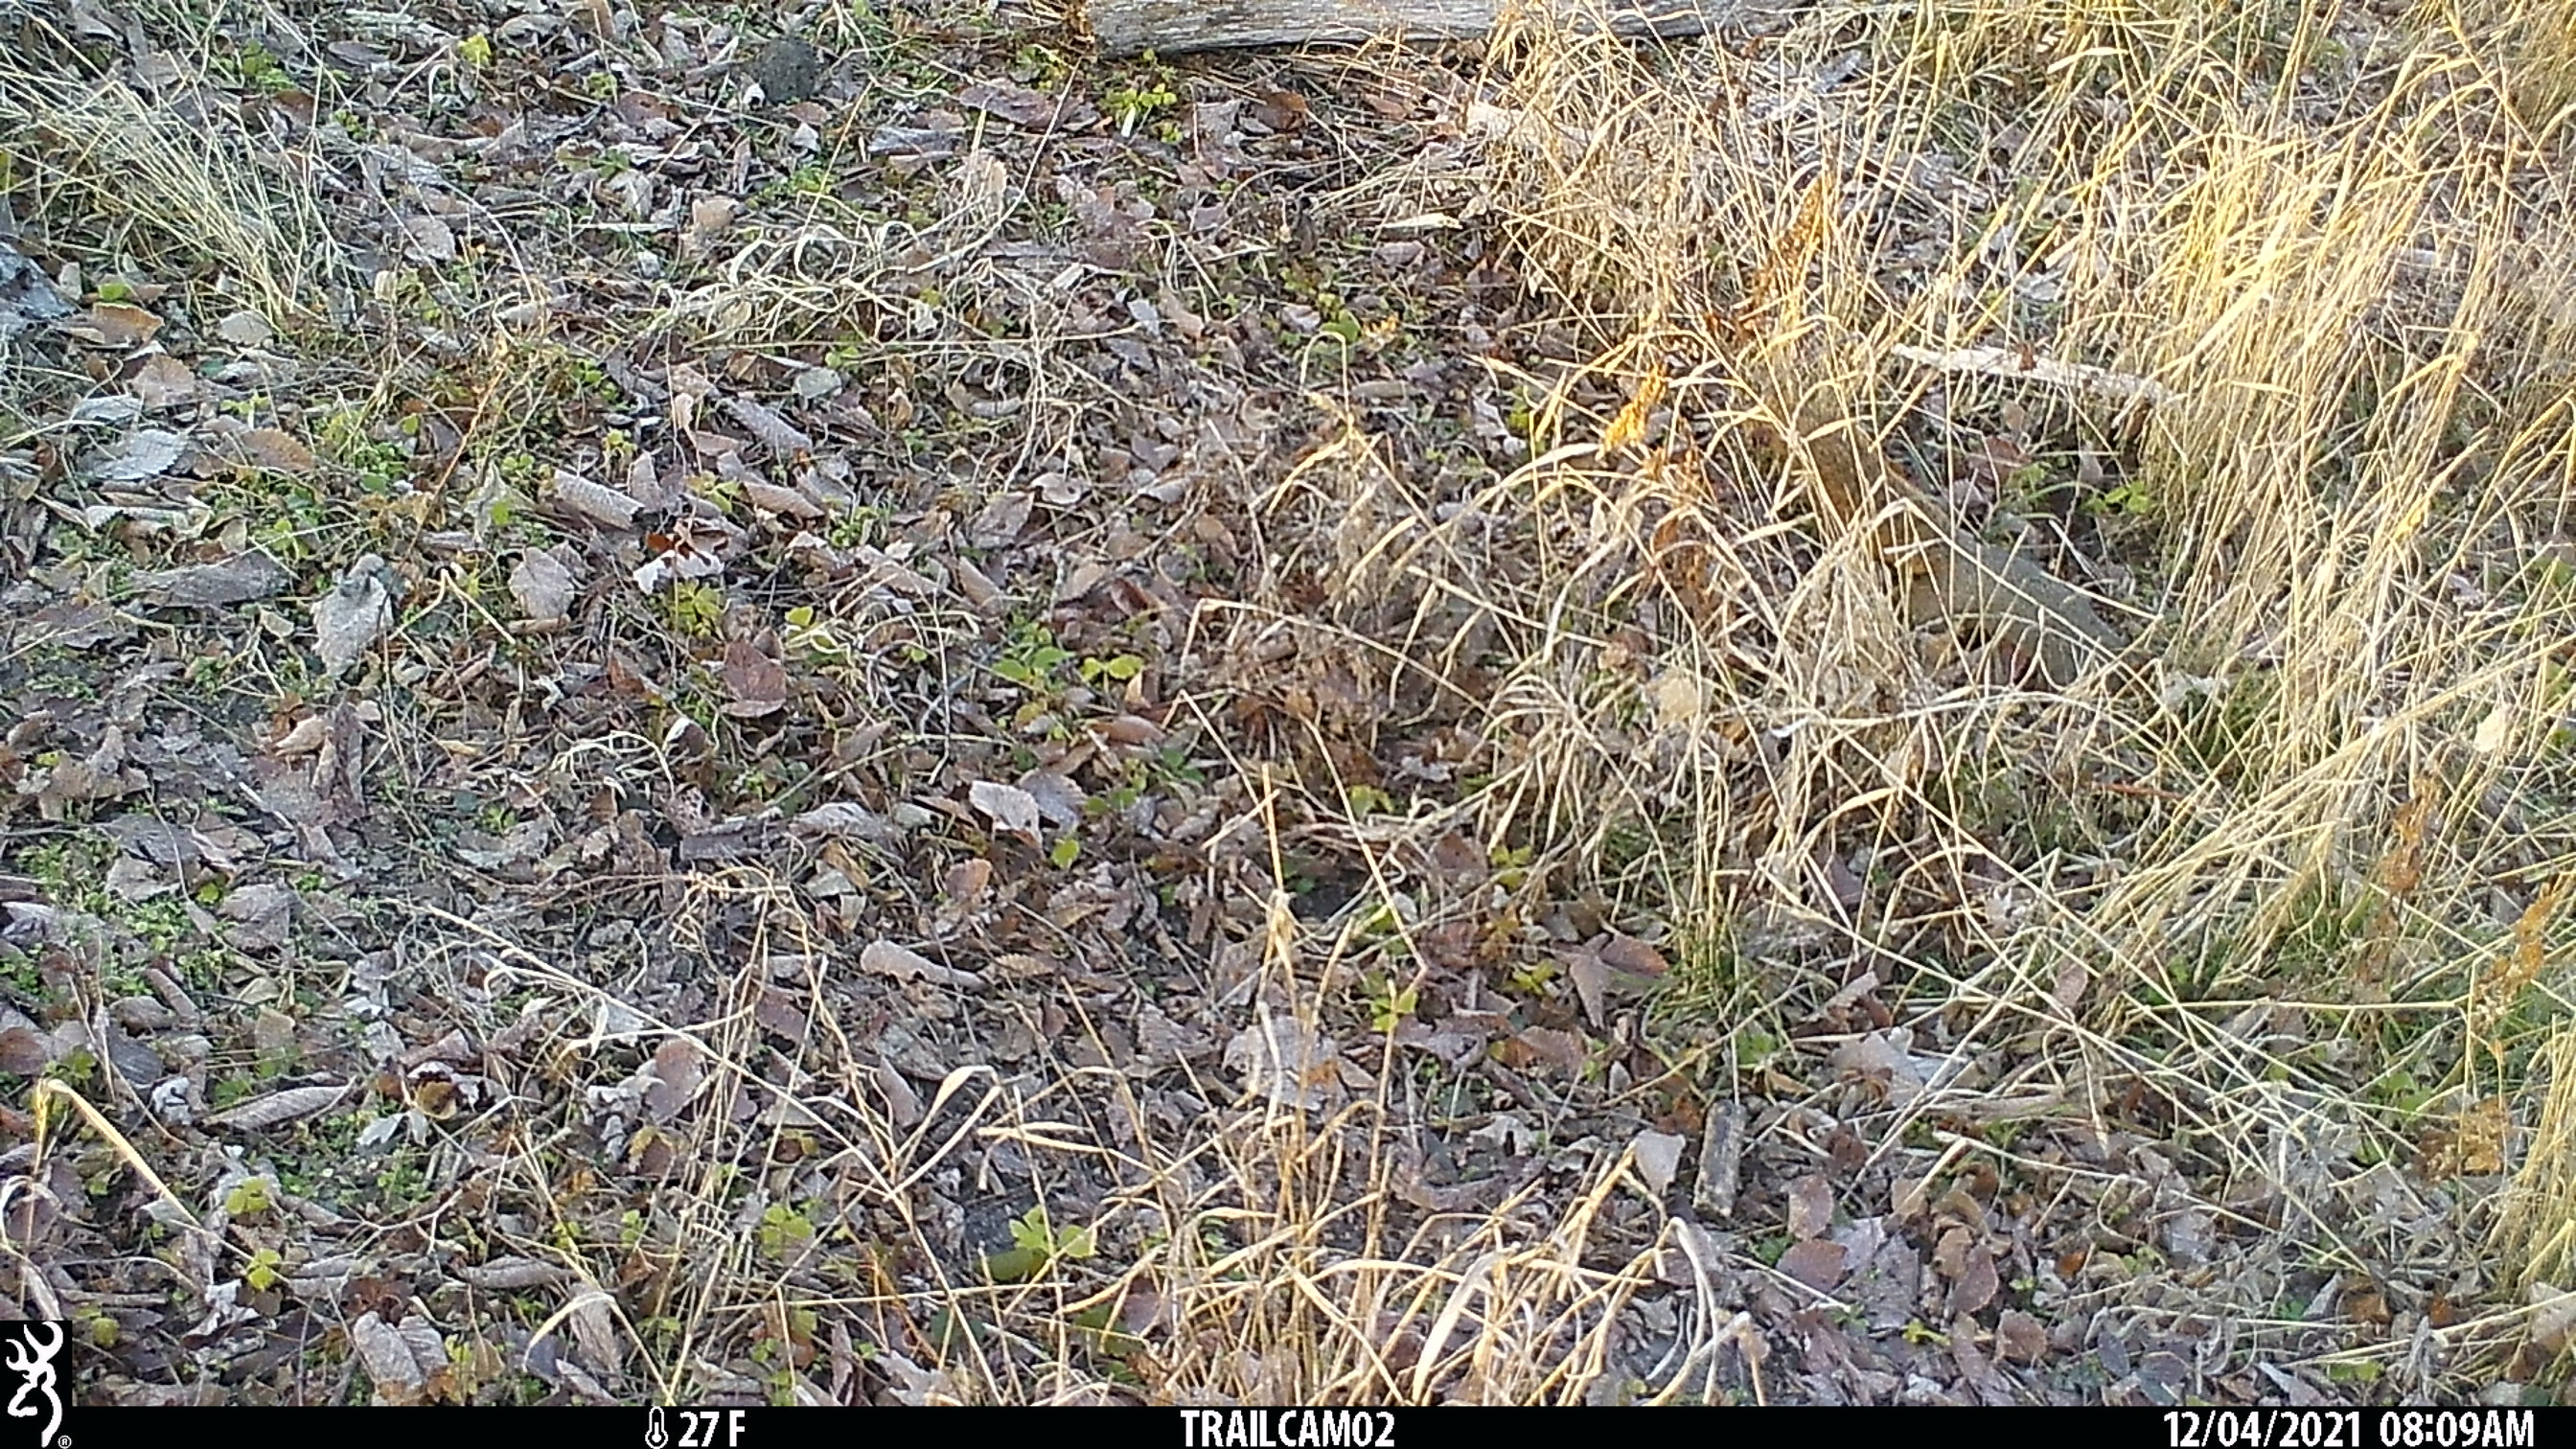Squirrel: (1750, 405, 2143, 702)
